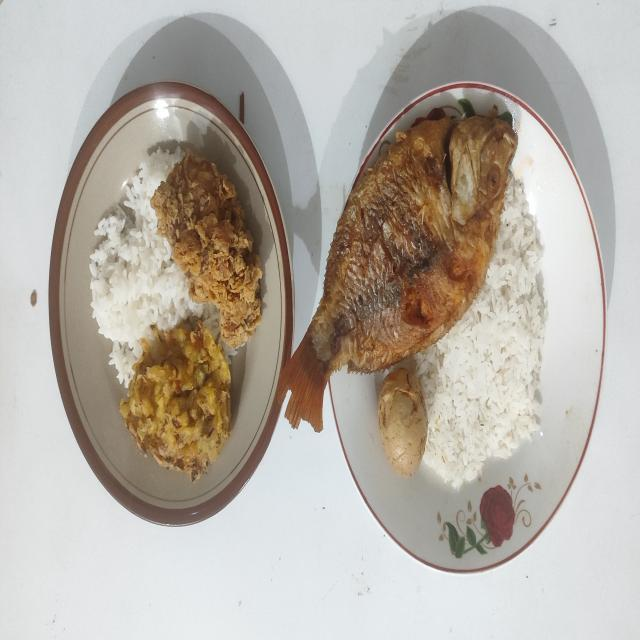ikan_mujair: (284, 108, 517, 420)
nasi_putih: (414, 180, 548, 488), (90, 150, 204, 386)
